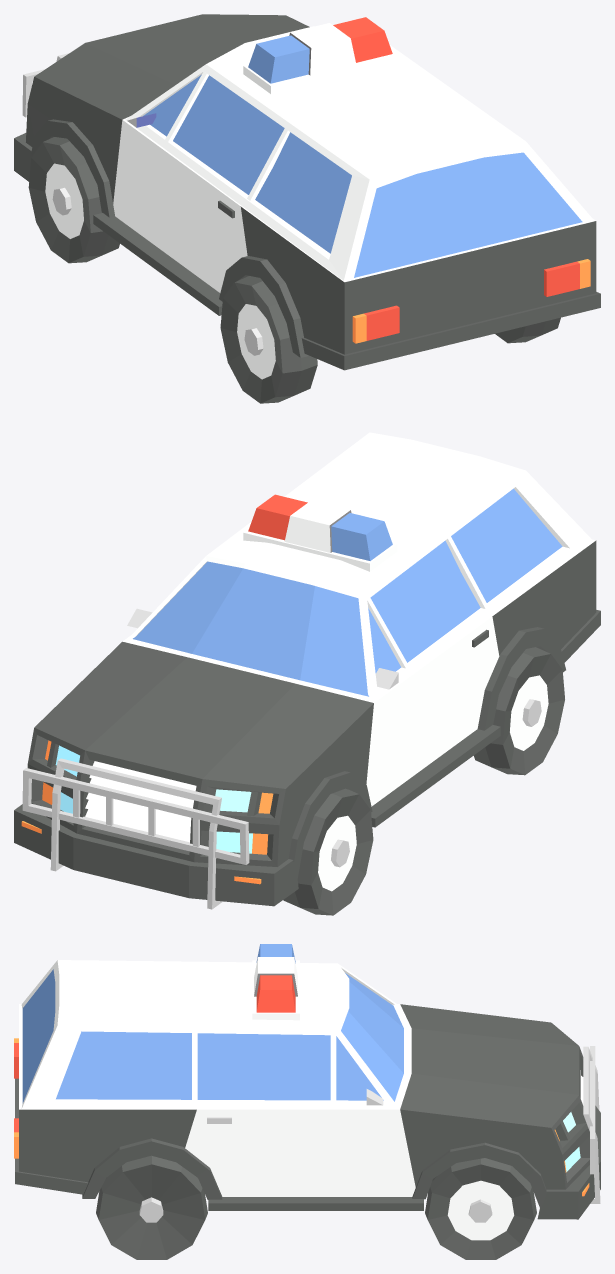
File: transport_purpose.009.glb
3 renders of one model, top to bottom at view 1: azimuth 30°, elevation 25°; view 2: azimuth 150°, elevation 25°; view 3: azimuth 270°, elevation 25°, orthographic. The views are drawn at different scales.
Visible parts, largest first — view 1: transport_purpose.009(Clone); view 2: transport_purpose.009(Clone); view 3: transport_purpose.009(Clone).
Boxes of the visible parts, box(x1,y1,x2,y2) form: transport_purpose.009(Clone): box(14, 14, 600, 403); transport_purpose.009(Clone): box(14, 432, 600, 915); transport_purpose.009(Clone): box(14, 944, 600, 1259).
Bounding box in the file's own units: 1.76 × 1.64 × 3.68.
Materials: 1 (1 with a texture image).
